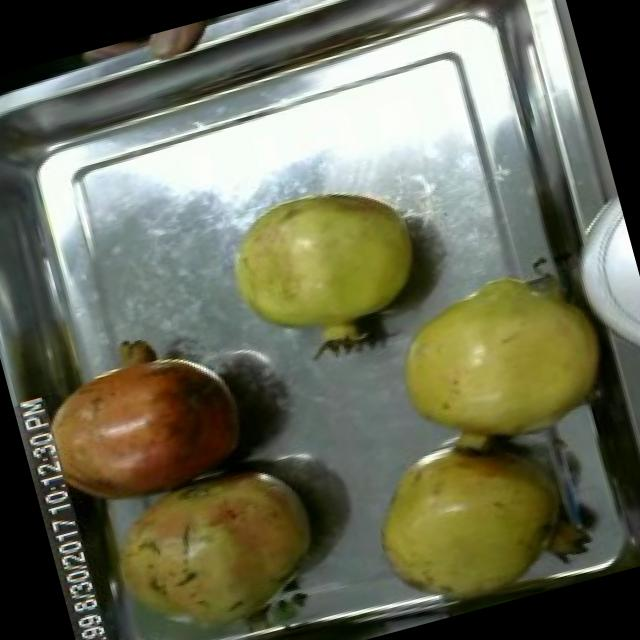fruit: (359, 242, 629, 479), (338, 403, 604, 634), (7, 311, 266, 531), (201, 160, 447, 387), (83, 440, 346, 640), (124, 15, 228, 72)
